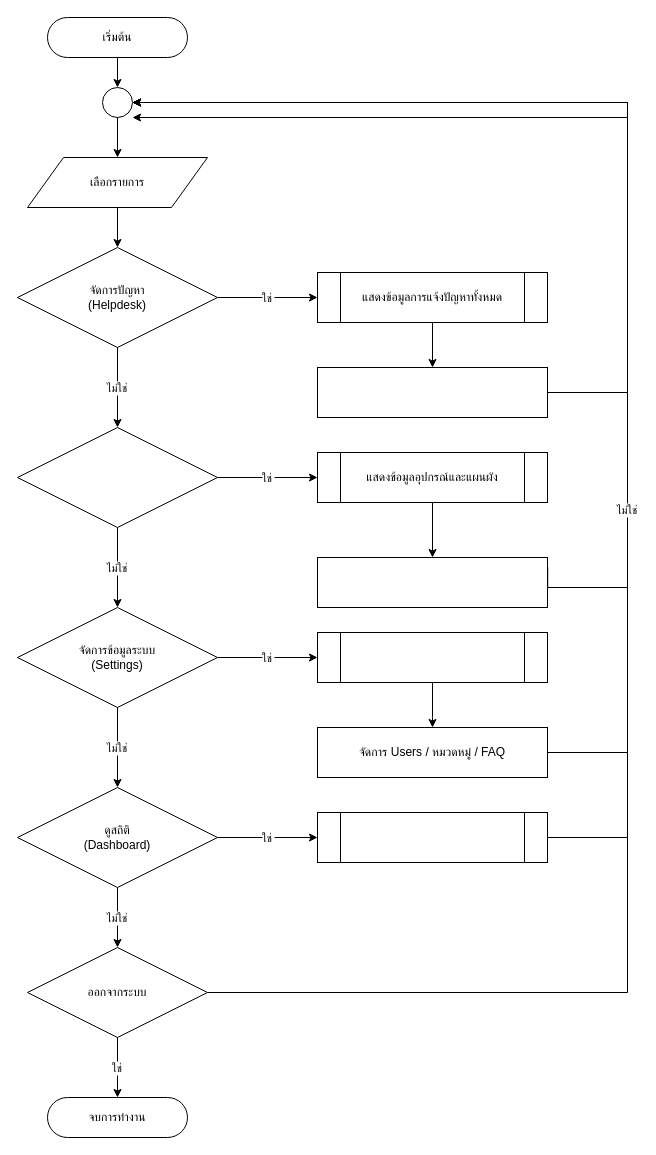
Image size: 656x1155. Some labels were removed from this diagram. Each missing label, with the box of its shape:
จัดการทรัพย์สิน (Asset): (16, 426, 218, 528)
อัปเดตสถานะและปิดงาน: (316, 366, 548, 418)
เพิ่ม/แก้ไขข้อมูลทรัพย์สิน: (316, 556, 548, 608)
แสดงข้อมูลพื้นฐาน: (316, 632, 548, 682)
แสดงข้อมูลรายงาน (KPI): (316, 812, 548, 862)
